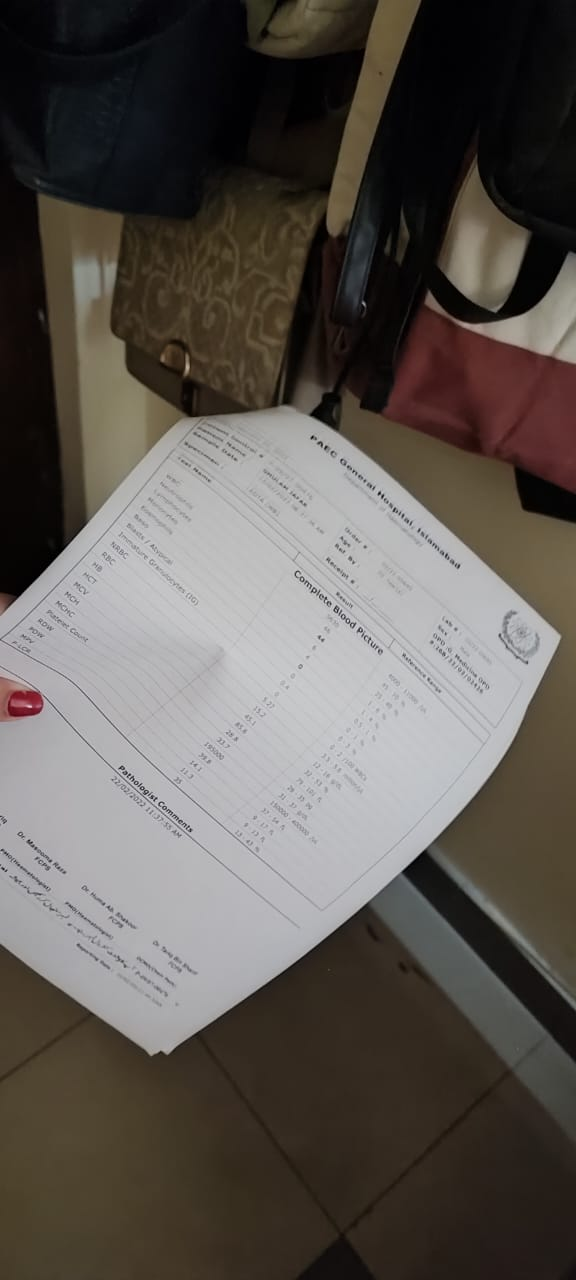report: (1, 453, 488, 909)
